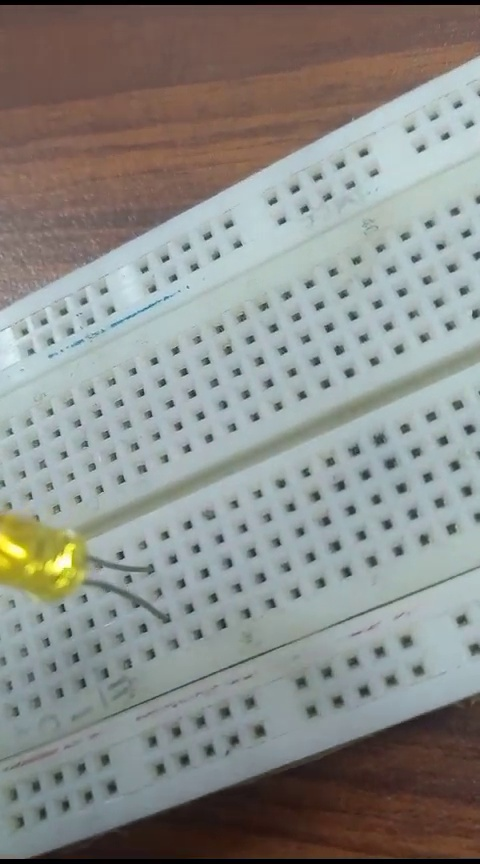LED: (6, 495, 171, 631)
